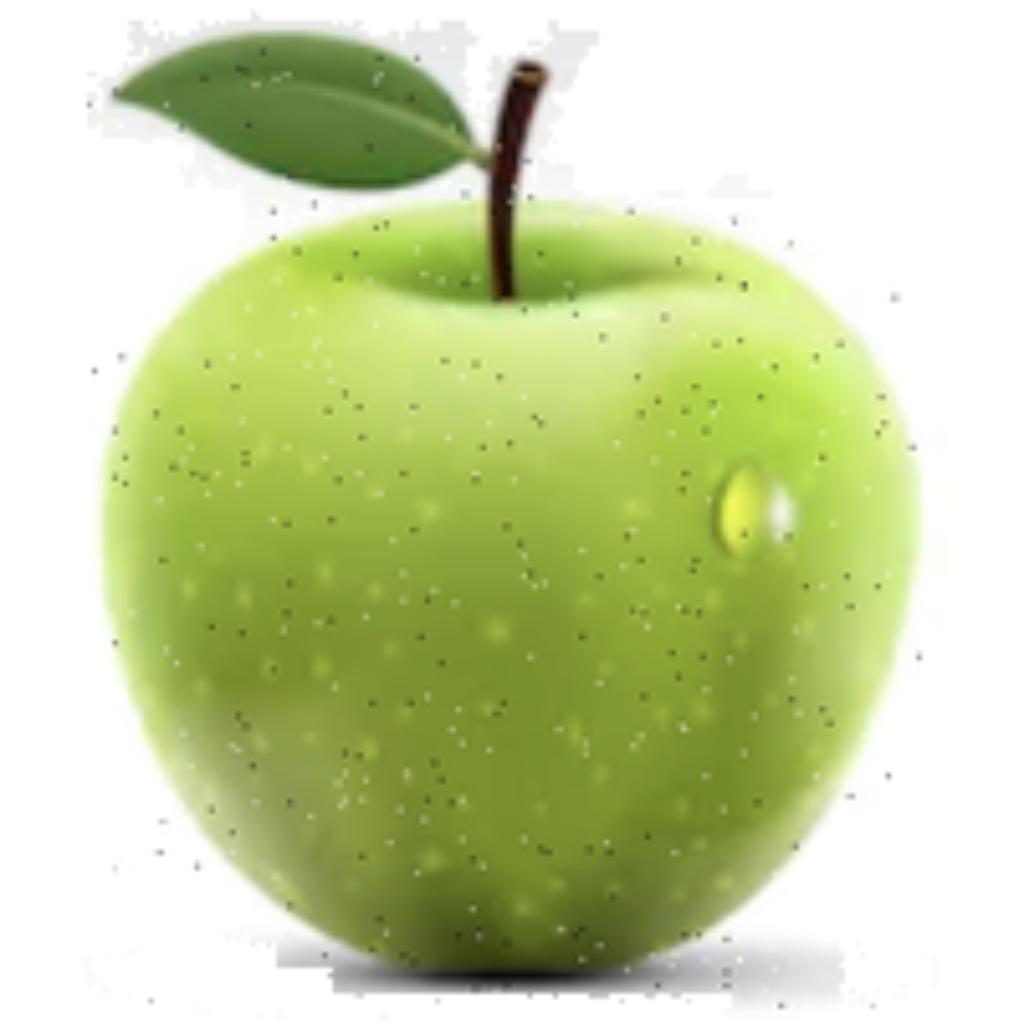apple: (82, 11, 922, 1014)
